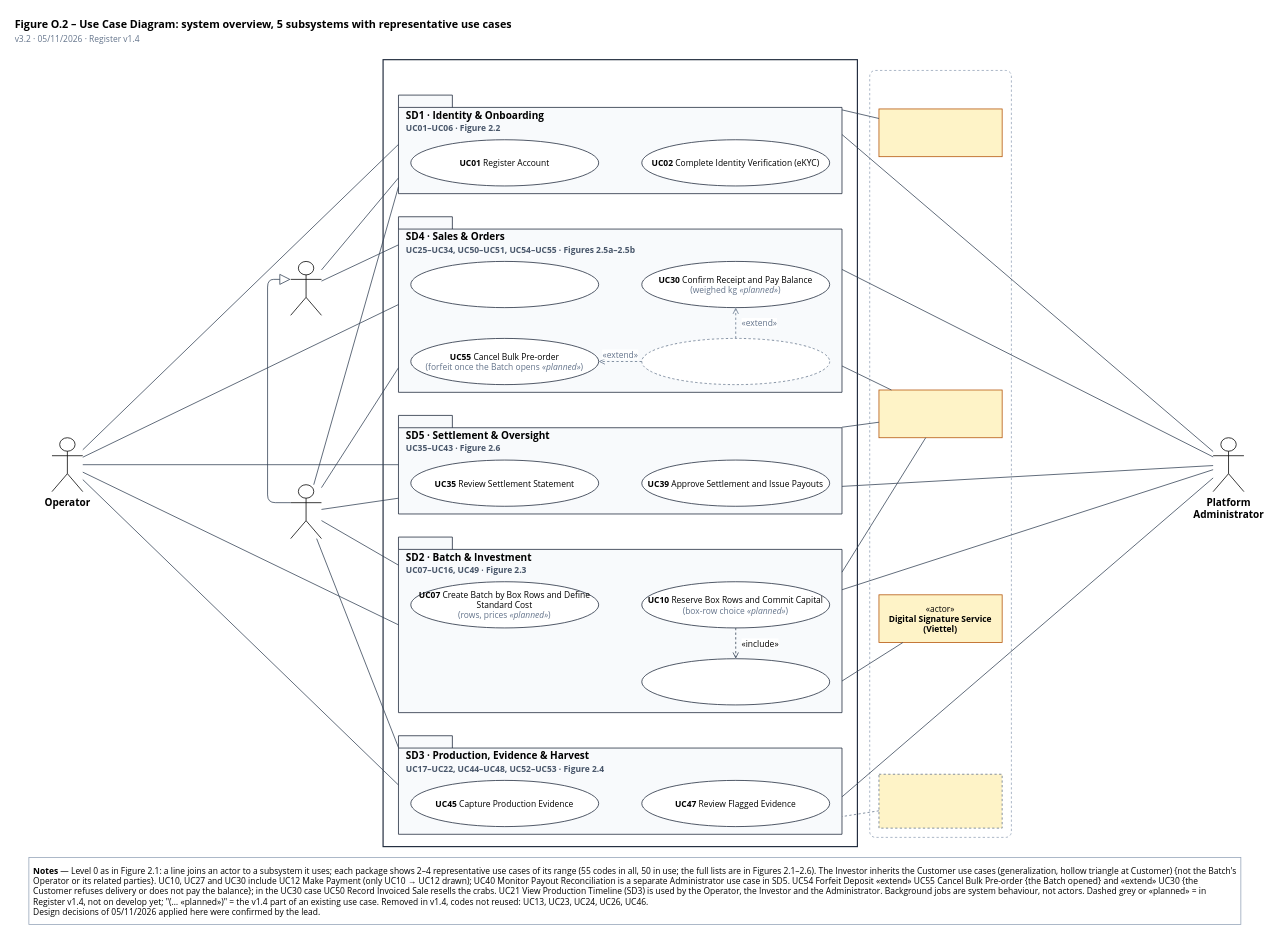
This 1277x938 diagram has some shape labels left out. The shapes that lost their labels are listed below. From the top down, each one's box as (x1, y1, x2, y2) in pixels, then its label:
(878, 108, 1002, 157): «actor» eKYC Provider
(290, 261, 321, 315): Customer
(410, 261, 599, 308): UC27 Place Bulk Pre-order with Deposit (crab count «planned» )
(641, 338, 830, 385): UC54 Forfeit Deposit «planned»
(878, 389, 1002, 438): «actor» Payment Service Provider
(382, 59, 858, 847): CrabShare System
(869, 70, 1011, 837): External systems (sandbox or simulated)
(290, 484, 321, 539): Investor
(641, 658, 830, 705): UC12 Make Payment (VietQR)
(878, 773, 1002, 828): «actor» Farm Devices & Cameras (simulated) «planned»
